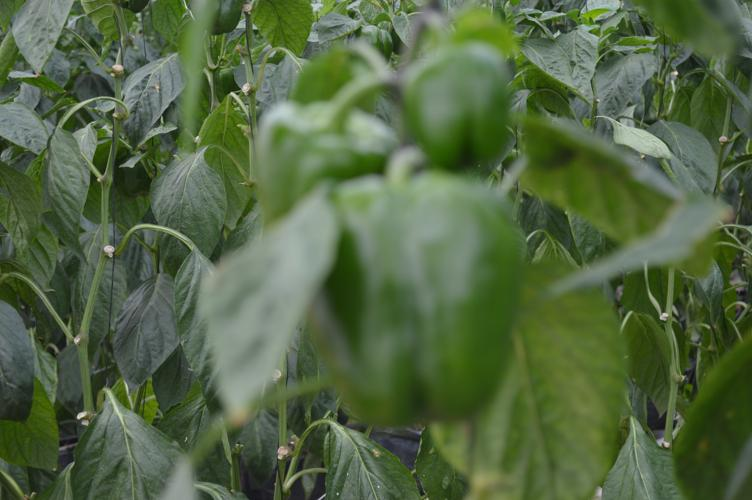BellPepper: (307, 183, 516, 420), (397, 43, 514, 167), (255, 107, 391, 199)
